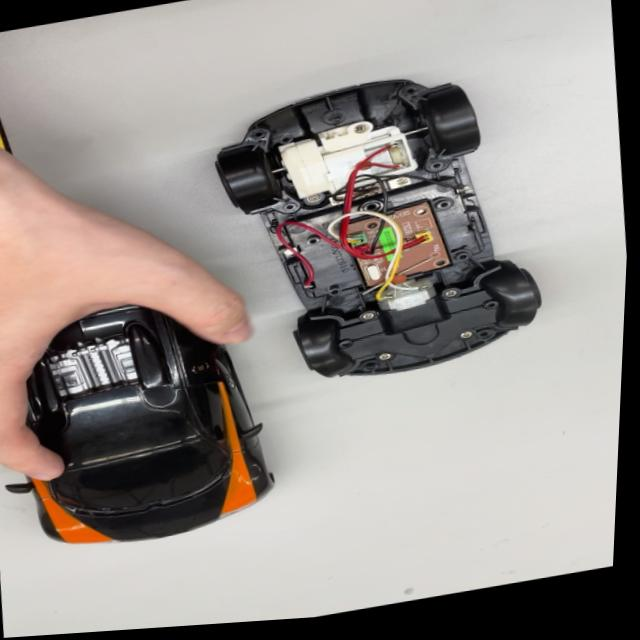Chassis: (209, 54, 557, 402)
vehicle_body: (0, 237, 287, 573)
